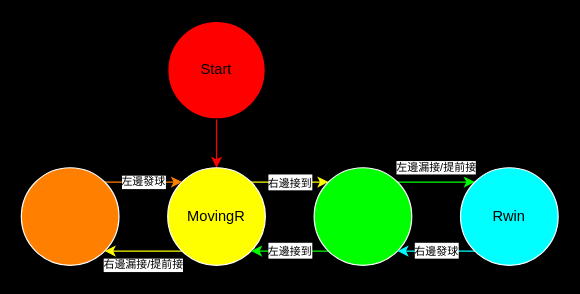
This 580x294 diagram has some shape labels left out. Each missing label, with the centre of its shape:
Lwin: the point at 69,216
MovingL: the point at 362,216
